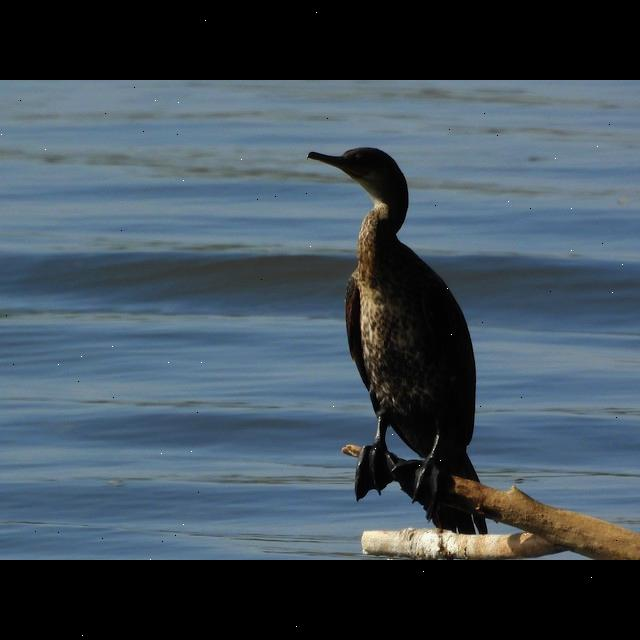cormorant: (303, 139, 502, 545)
